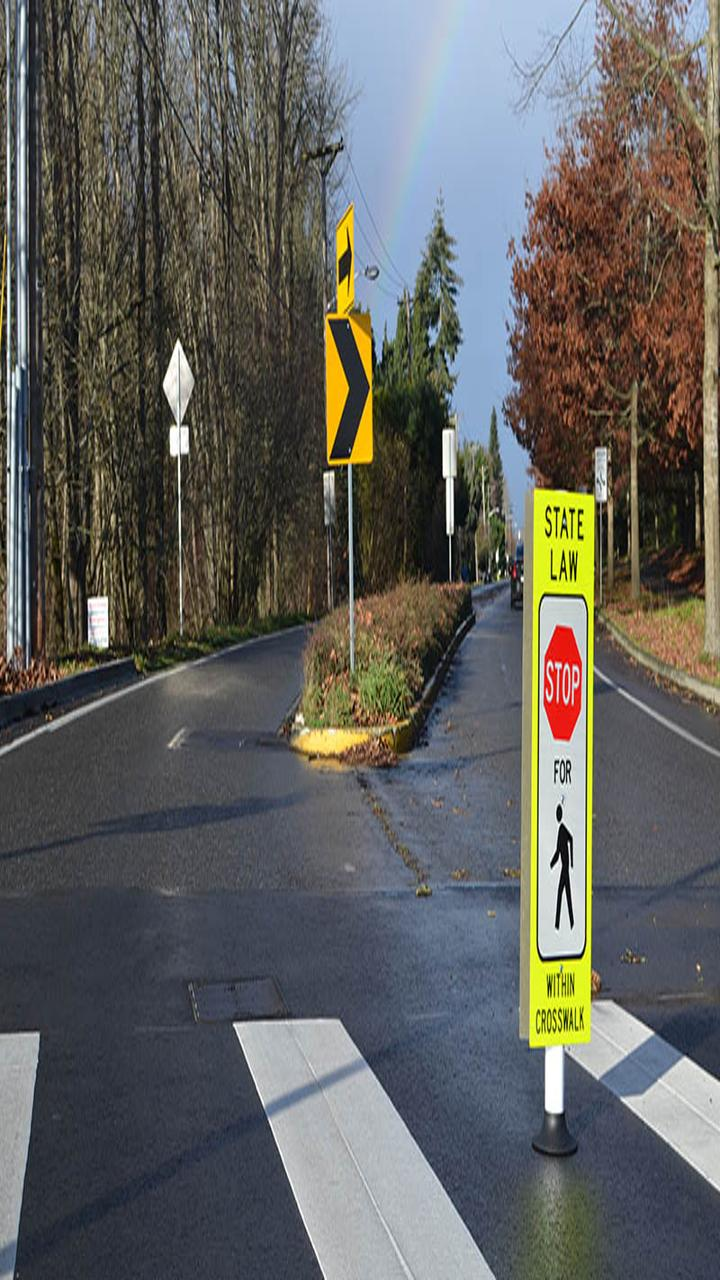Traffic sign: (489, 454, 618, 1048), (292, 193, 403, 483)
